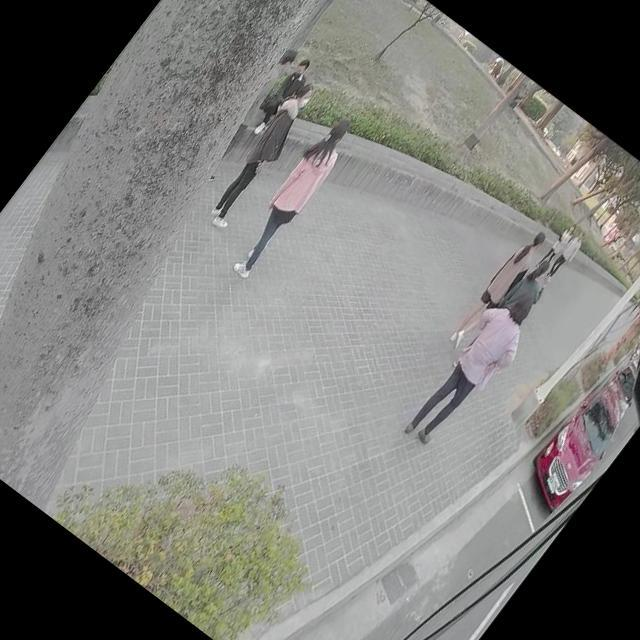person: (398, 277, 550, 455), (222, 108, 364, 283), (202, 82, 321, 229), (447, 224, 551, 350), (214, 48, 300, 154), (246, 56, 316, 140), (498, 250, 562, 321), (544, 228, 590, 283), (538, 222, 578, 270)
